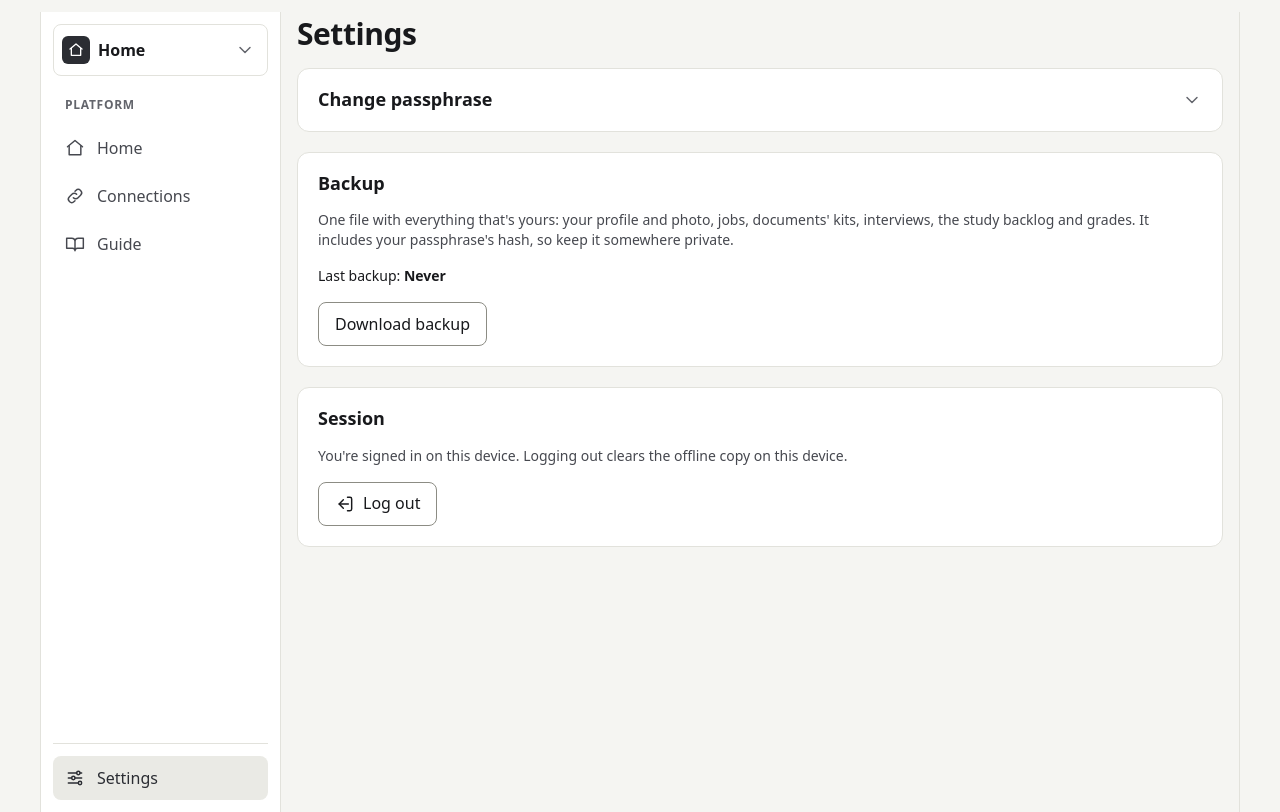
Test: Settings → Backup › downloads one file with the rows and each file's bytes, then records it on the server
This screenshot has width=1280, height=812.
Expected: the text "Never" is shown, left=404, top=266, right=446, bottom=285
Click the button "Download backup" at (403, 324), box left=318, top=302, right=487, bottom=346
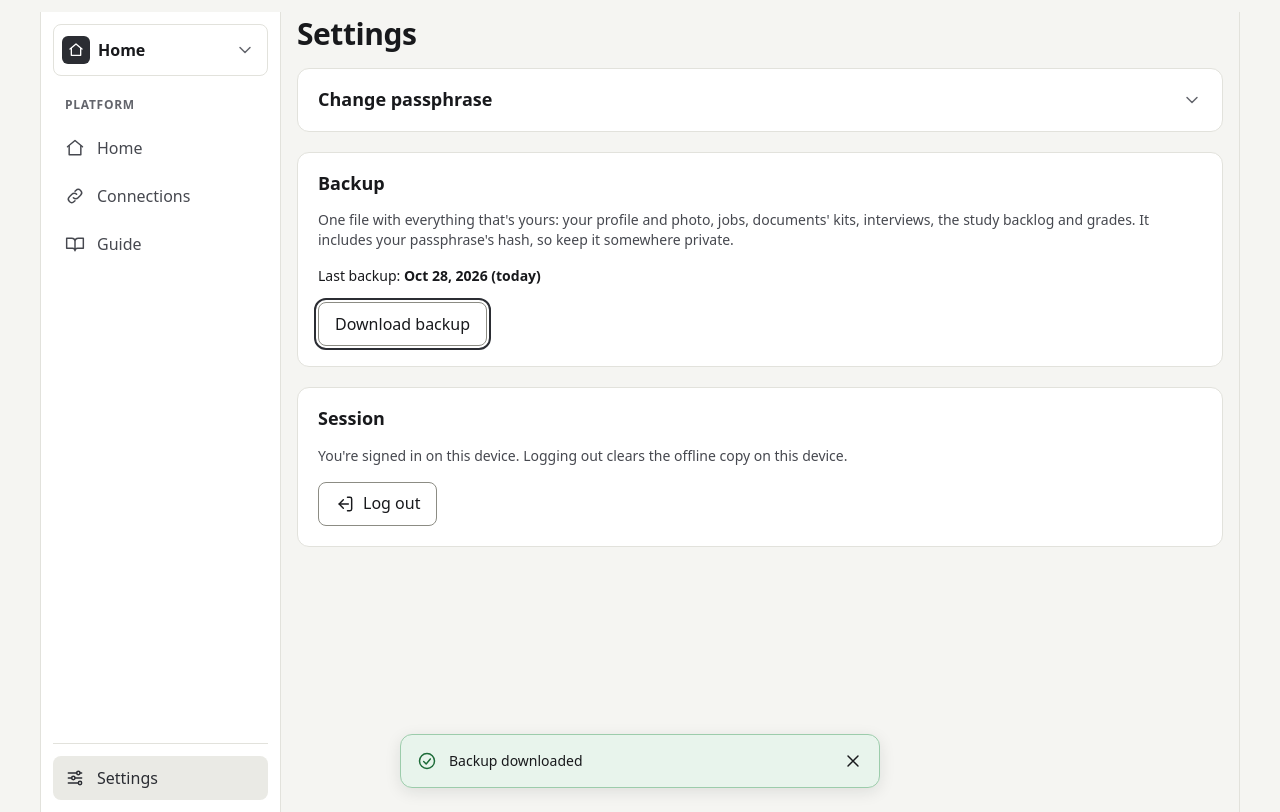
Now the text "Backup downloaded" is shown, box left=449, top=750, right=583, bottom=770
Now the text "Oct 28, 2026 (today)" is shown, box left=404, top=266, right=541, bottom=285
